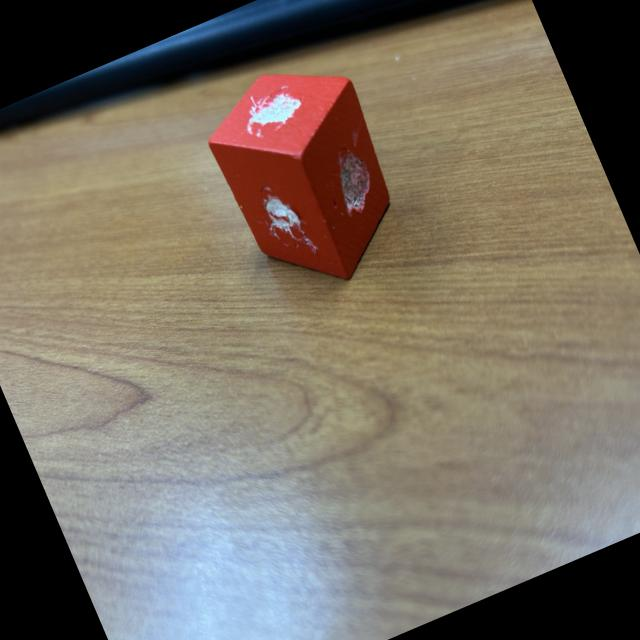broken: (190, 40, 424, 310)
